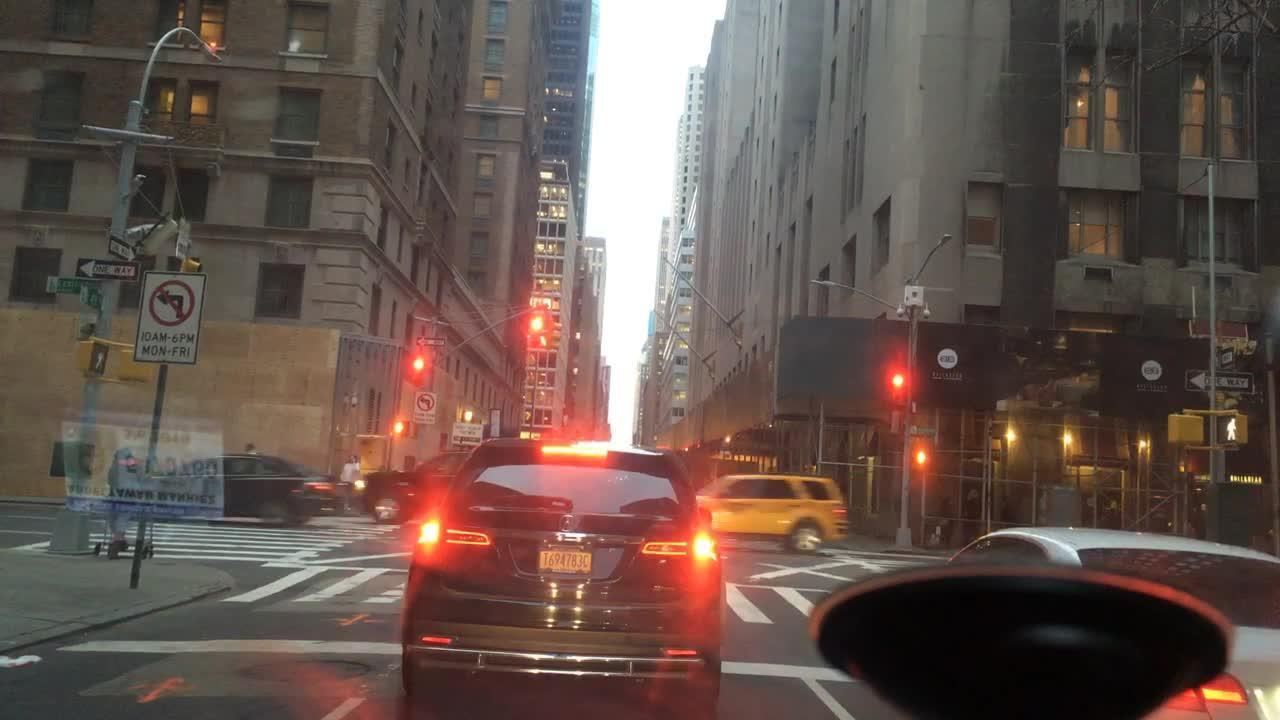acura: (557, 507, 579, 538)
